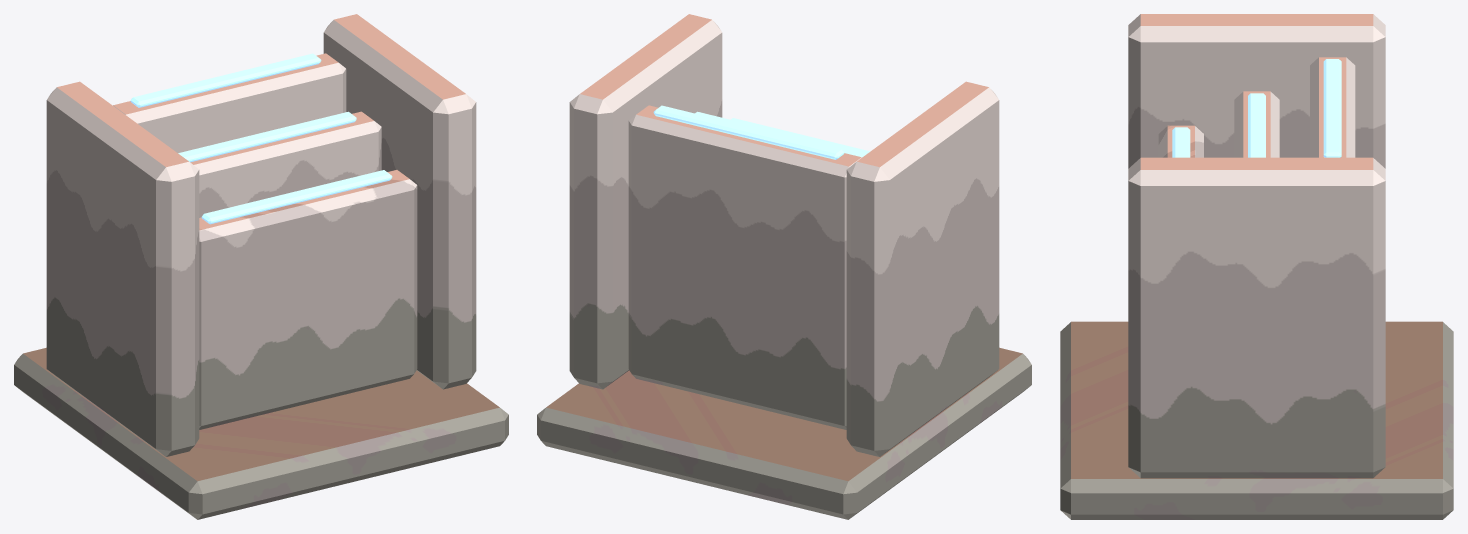
File: R4X_WallDeployer_LOD1.glb
The picture shows the model from 3 angles, left to right: view 1: azimuth 30°, elevation 25°; view 2: azimuth 150°, elevation 25°; view 3: azimuth 270°, elevation 25°; orthographic projection. The views are drawn at different scales.
Parts seen in each view (by area): view 1: R4X_WallDeployer_LOD1; view 2: R4X_WallDeployer_LOD1; view 3: R4X_WallDeployer_LOD1.
Boxes of the visible parts, box(x1,y1,x2,y2) form: R4X_WallDeployer_LOD1: box(14, 14, 508, 519); R4X_WallDeployer_LOD1: box(537, 14, 1031, 519); R4X_WallDeployer_LOD1: box(1060, 14, 1453, 519).
Bounding box in the file's own units: 0.52 × 0.51 × 0.52.
Materials: 3 (2 with a texture image).
